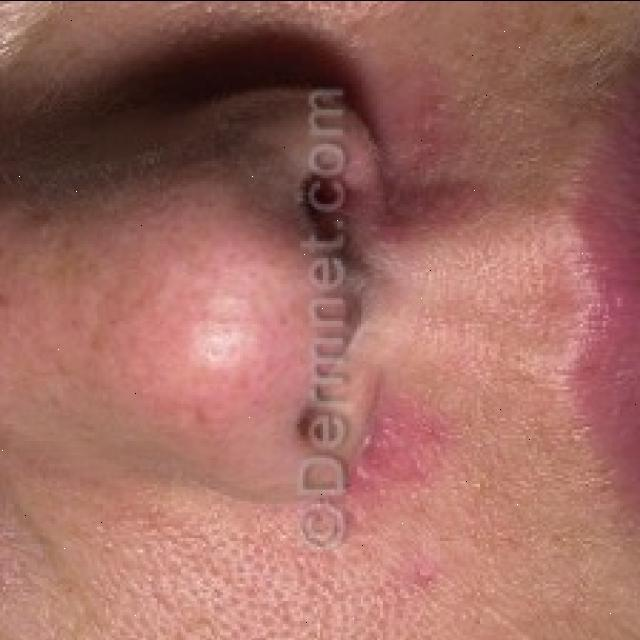Acne: (120, 182, 313, 404)
